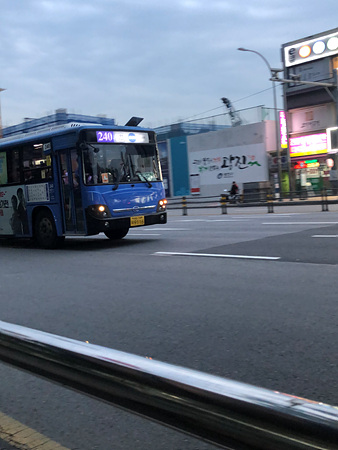bnum: (95, 129, 113, 142)
